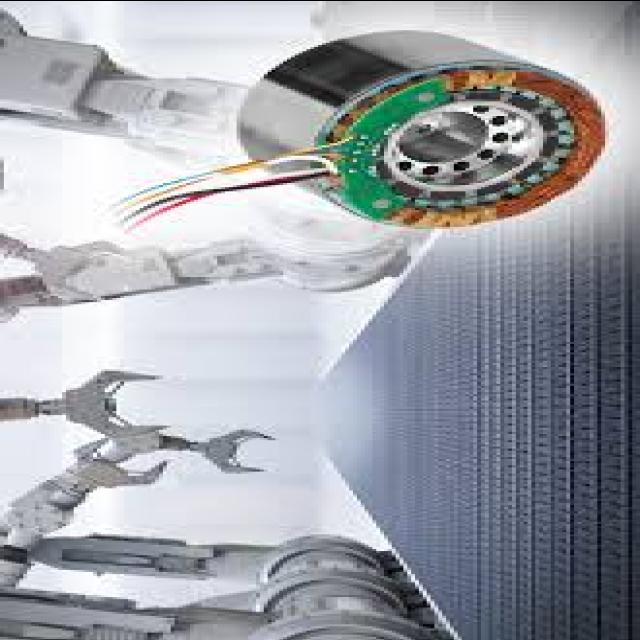Robotic-arm: (0, 433, 422, 639), (0, 213, 422, 323), (0, 5, 238, 144)
